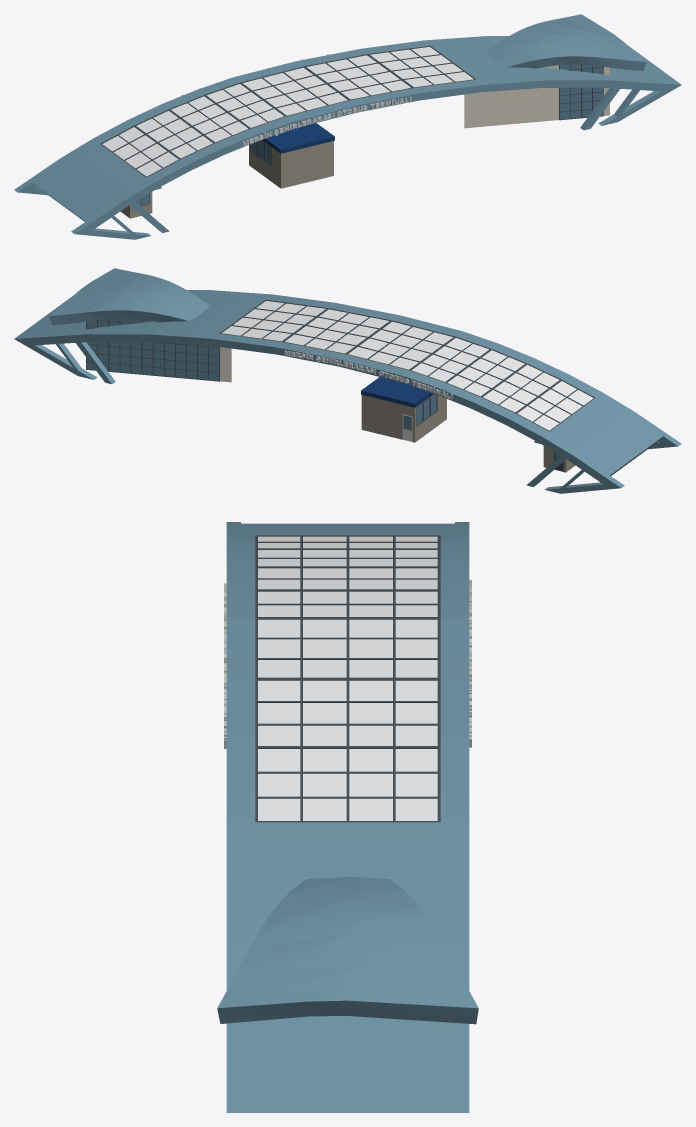
The model's file is entrygate.glb.
3 renders of one model, top to bottom at view 1: azimuth 30°, elevation 25°; view 2: azimuth 150°, elevation 25°; view 3: azimuth 270°, elevation 25°, orthographic. The views are drawn at different scales.
Parts seen in each view (by area): view 1: entryGate; view 2: entryGate; view 3: entryGate.
Boxes of the visible parts, left/top/right/bottom form: entryGate: left=14, top=14, right=681, bottom=239; entryGate: left=14, top=268, right=681, bottom=493; entryGate: left=217, top=522, right=478, bottom=1112.
Size of the model in its own units: 161 by 20.38 by 30.1.
